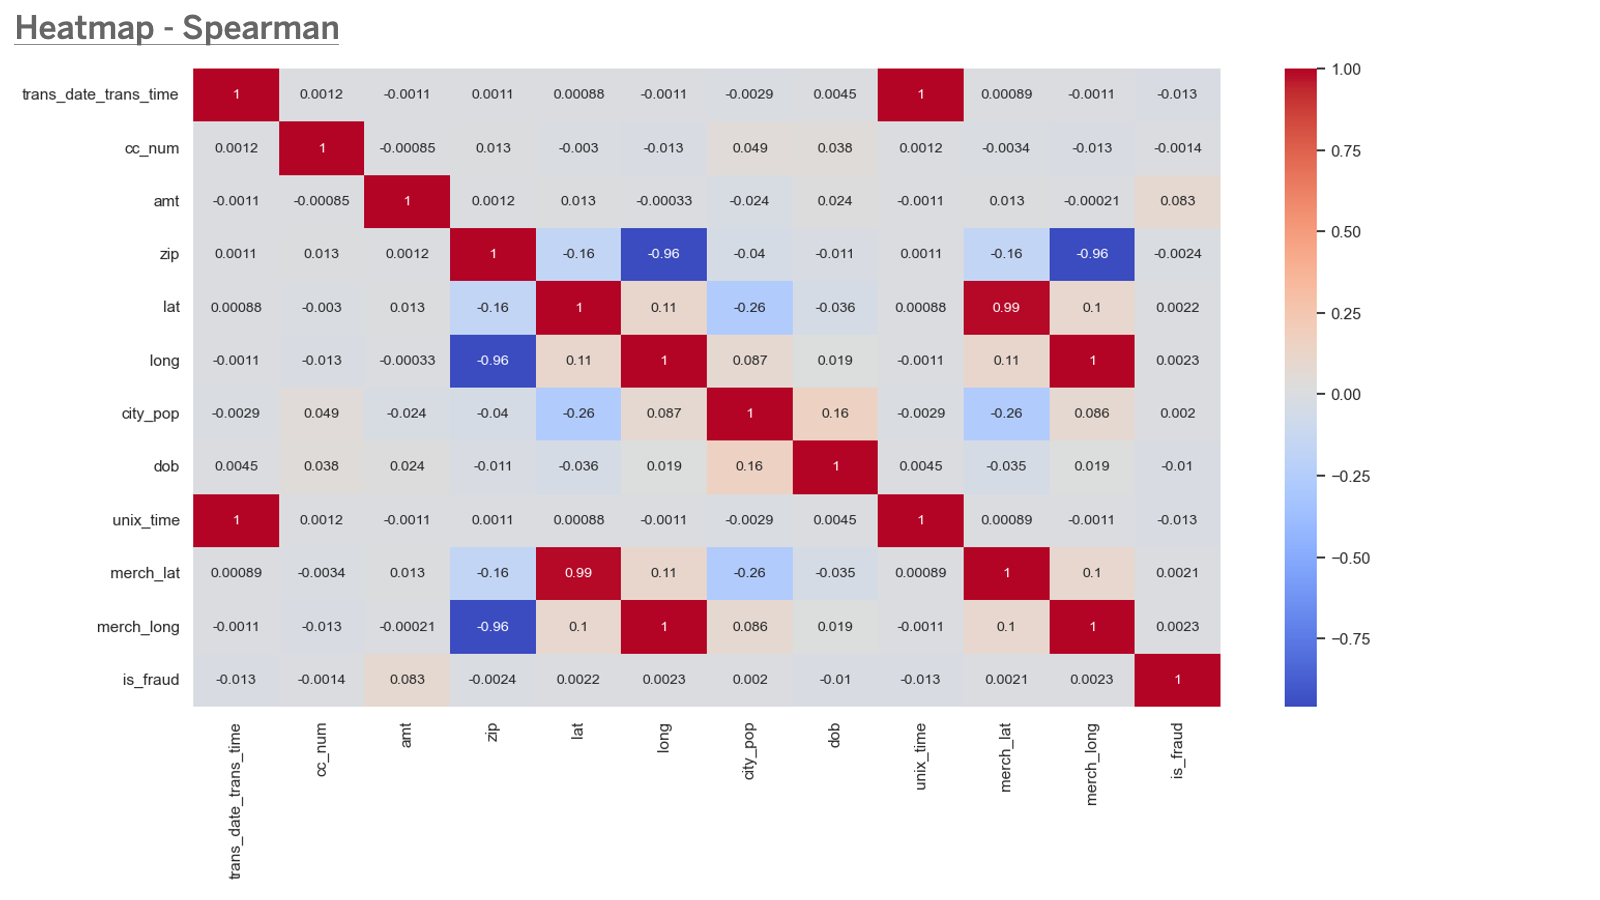

The dashboard page shown, as its layout file describes it:
{"tool":"tableau","page":{"name":"EDA Heatmap Spearman","canvas":[1600,900],"ordinal":5},"visuals":[{"type":"text","box":[8,8,1584,41]},{"type":"image","param":"/Users/koala/Documents/Lighthub/credit_card_fraud_detection/heatmap_spearman.png","box":[8,49,1584,843]}]}

Visuals, with their boxes in screenshot pixels (x1, y1, x2, y2), scaled from the page's 1600x900 canvas onto the 1600x900 screenshot:
text: box(8, 8, 1592, 49)
image: box(8, 49, 1592, 892)
